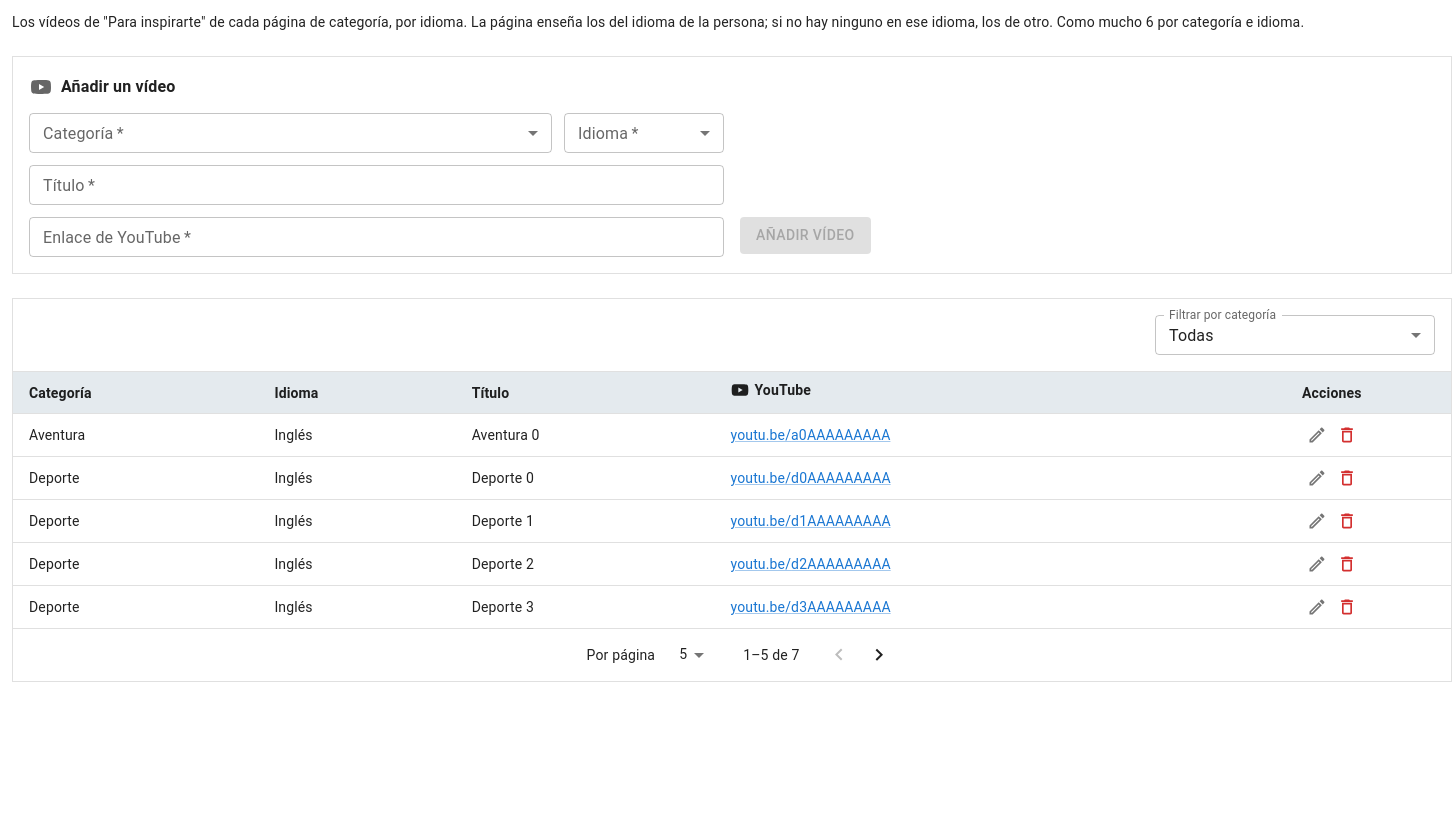
AdminVideos (ADM-04) › se filtra por categoría y se pagina (5 por página)
This screenshot has width=1452, height=822.
Expected: the number of rows is 6, [13, 372, 1451, 414]; [13, 414, 1451, 456]; [13, 456, 1451, 500]; [13, 500, 1451, 542]; [13, 542, 1451, 586]; [13, 586, 1451, 628]
Press the mouse on the dropdown named "filtrar por categoría" at {"x": 1191, "y": 335}, box [1169, 326, 1214, 344]
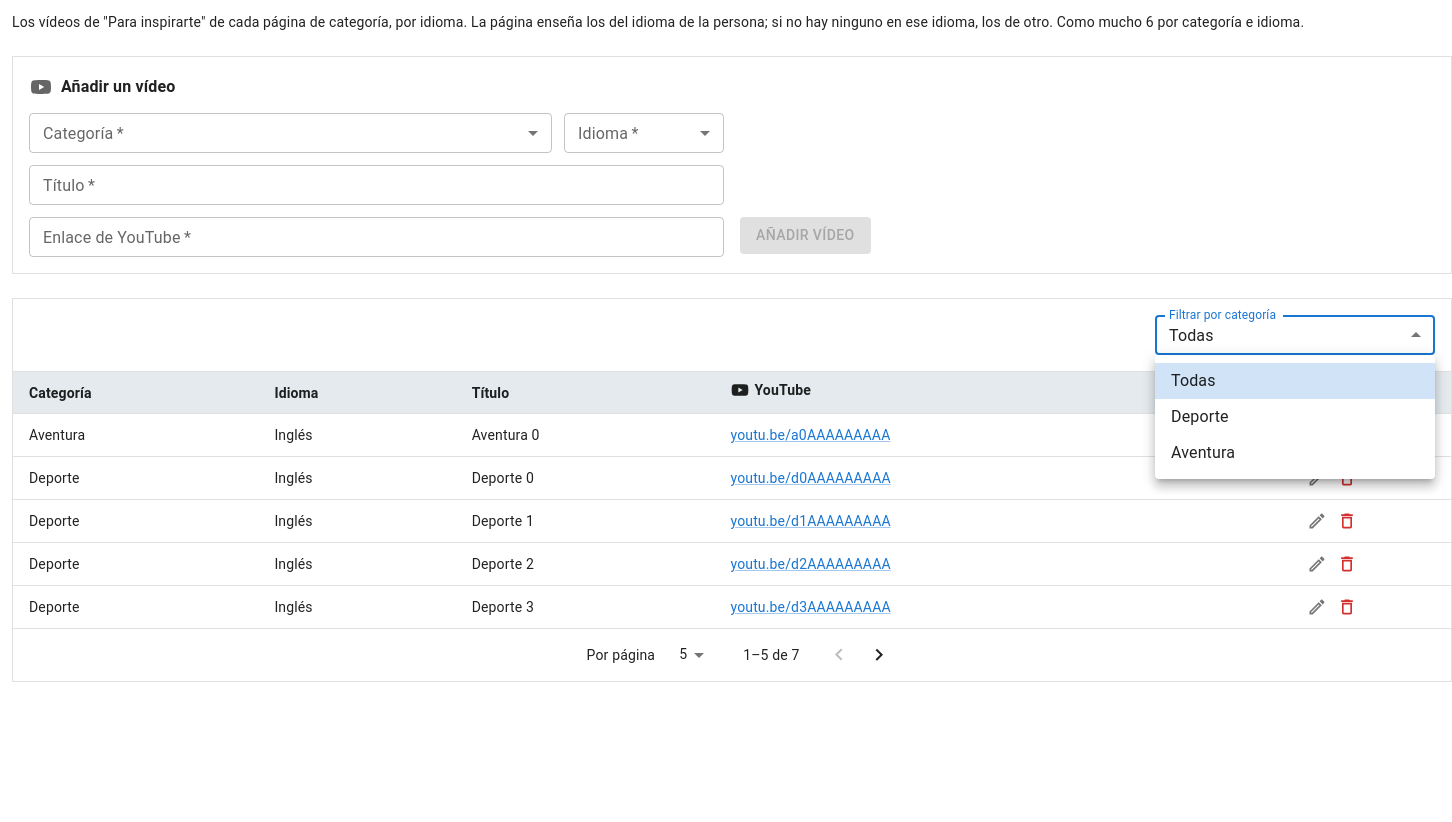
Click the option "Aventura".
click(1203, 452)  # box [1171, 443, 1235, 462]
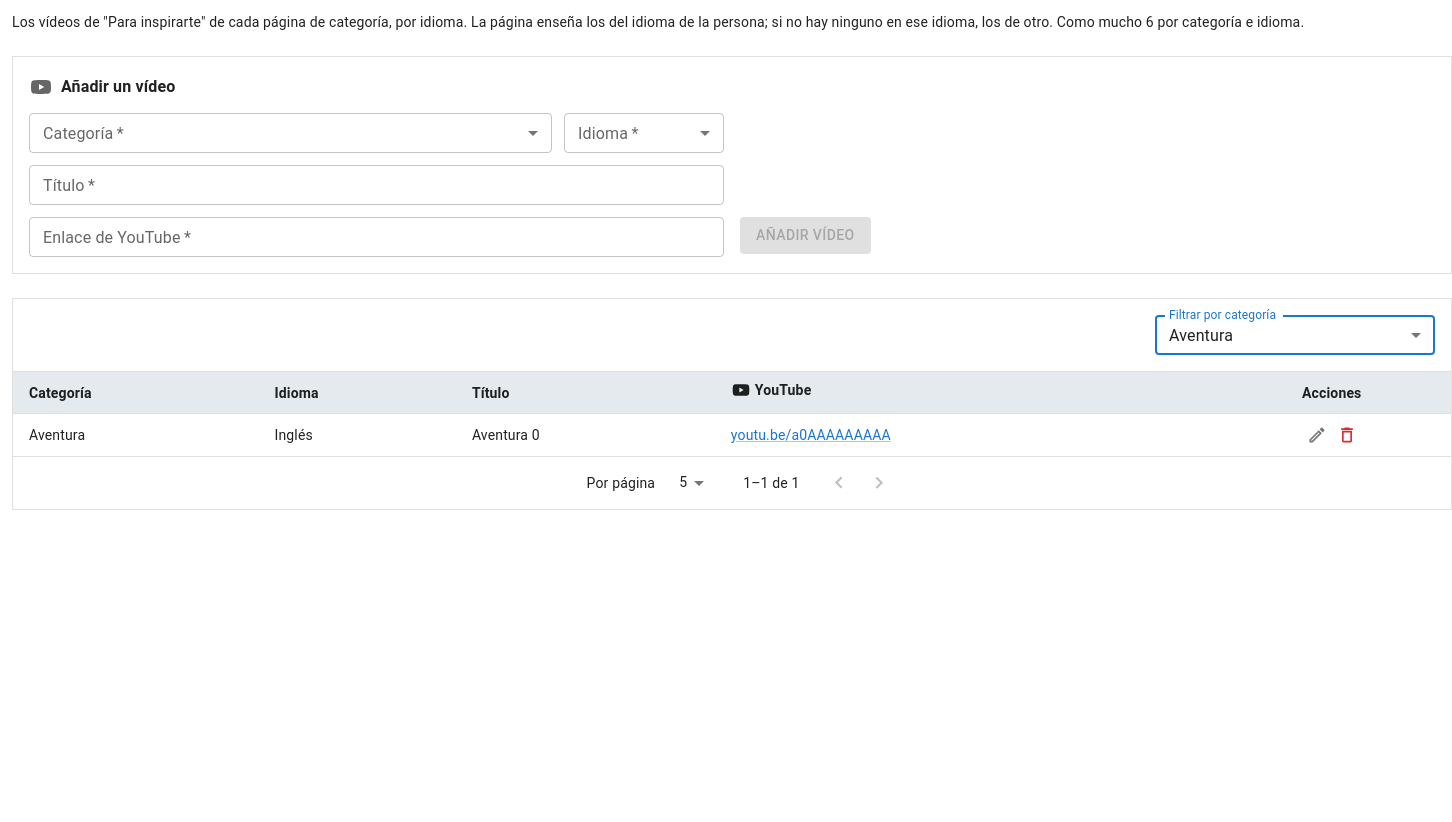
Expected: the text "Aventura 0" is shown, [456, 414, 715, 456]
Now the number of rows is 2, box [13, 372, 1451, 414]; [13, 414, 1451, 456]
